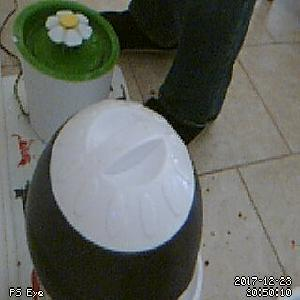fountain: (10, 1, 121, 83)
